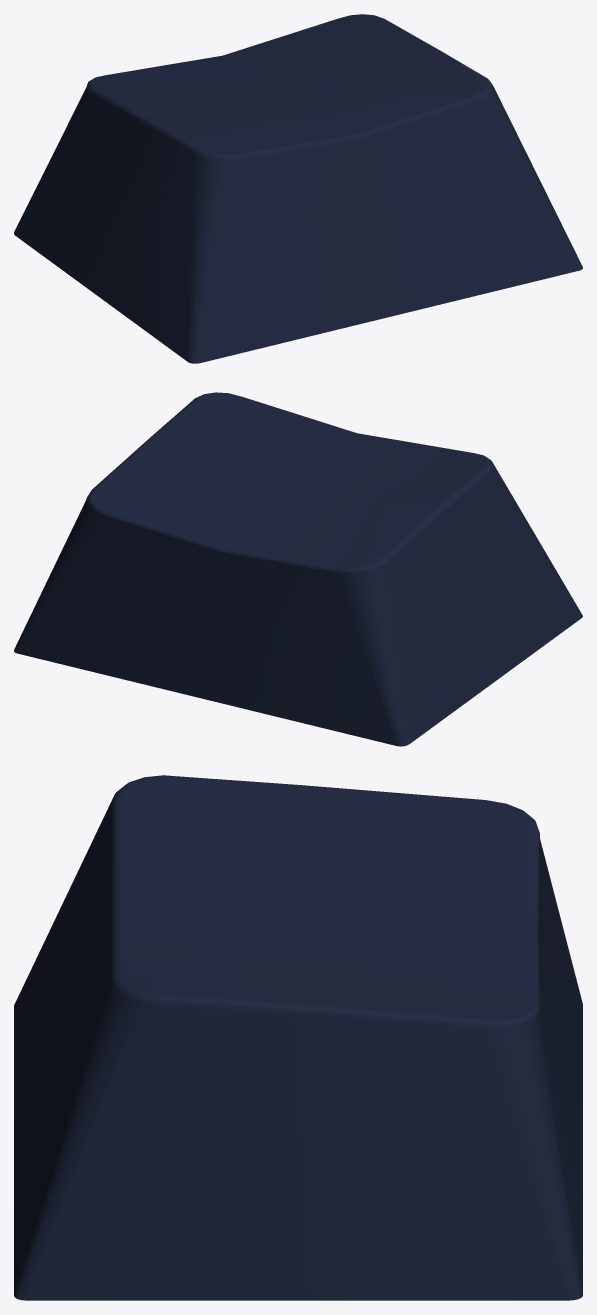
Rendered from cherry115u.glb.
The picture shows the model from 3 angles, top to bottom: view 1: azimuth 30°, elevation 25°; view 2: azimuth 150°, elevation 25°; view 3: azimuth 270°, elevation 25°; orthographic projection. The views are drawn at different scales.
Visible parts, largest first — view 1: R3_1.25U_Mesh; view 2: R3_1.25U_Mesh; view 3: R3_1.25U_Mesh.
Boxes of the visible parts, x1,y1,x2,y2 form: R3_1.25U_Mesh: (14,14,582,363); R3_1.25U_Mesh: (14,392,582,746); R3_1.25U_Mesh: (14,775,582,1300).
Size of the model in its own units: 0.0226 by 0.00926 by 0.018.
